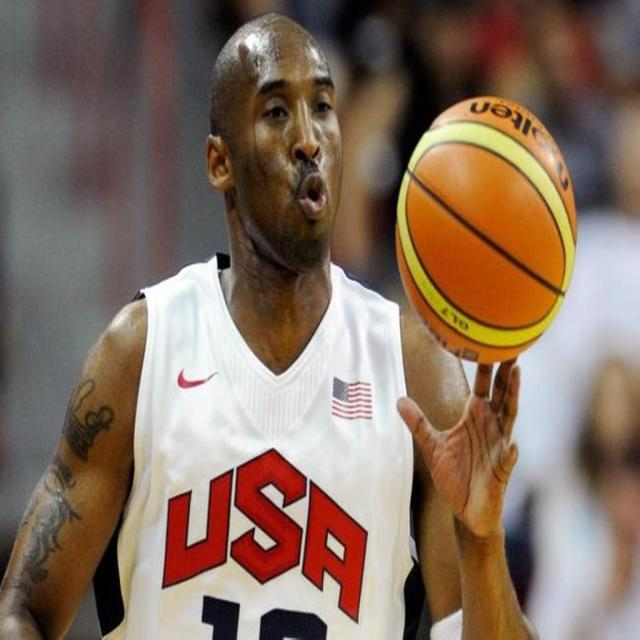Face: (218, 12, 358, 273)
